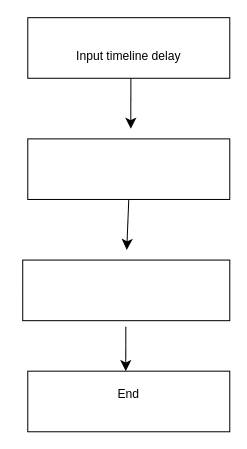
The diagram is 247 pixels wide and 449 high, and some of its shapes have lost their labels. The box of each missing label's shape, as (x1, y1, x2, y2) in pixels:
Convert number: (27, 138, 230, 199)
Output Results: (22, 259, 230, 321)
